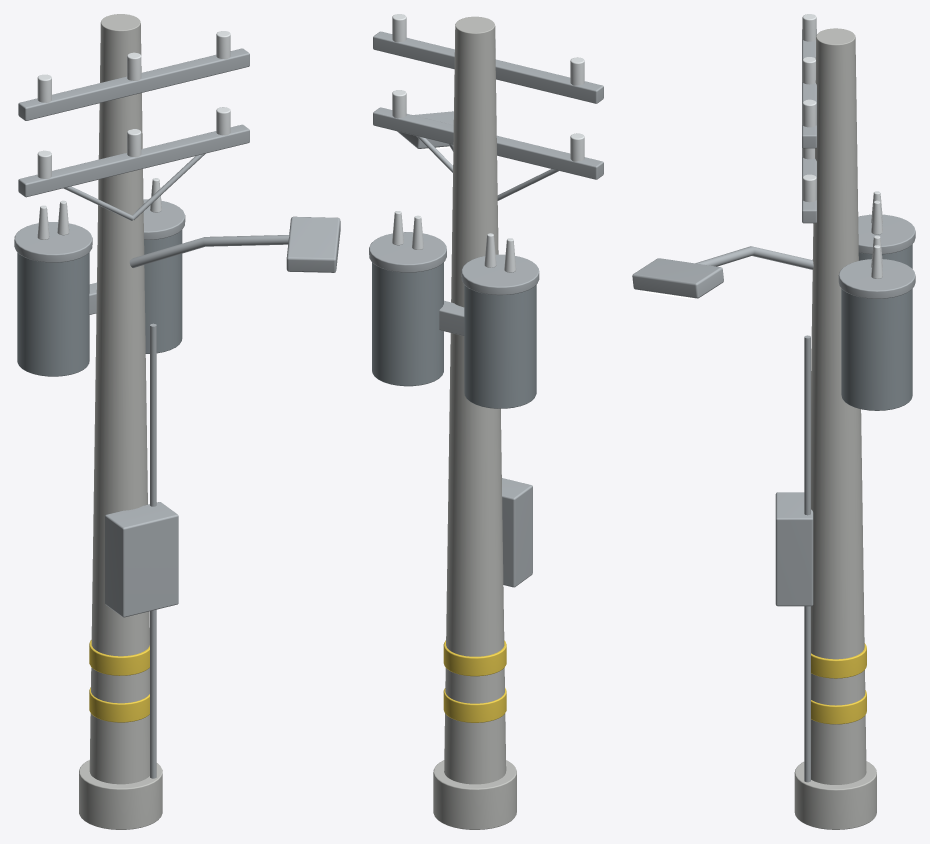
The model's file is urban_utility_pole_cluster_v9.glb.
3 renders of one model, left to right at view 1: azimuth 30°, elevation 25°; view 2: azimuth 150°, elevation 25°; view 3: azimuth 270°, elevation 25°, orthographic.
Parts seen in each view (by area): view 1: GEO_TaperedConcretePole, GEO_PoleTransformerTank, GEO_TelecomJunctionBox, GEO_SteelCrossarm.001, GEO_SteelCrossarm, GEO_PoleBaseCollar, GEO_PoleTransformerTank.001, GEO_StreetlampHeadHousing, GEO_RiserCableConduit, GEO_TransformerTopLid, GEO_CurvedStreetlampArm, GEO_TransformerTopLid.001 (+2 smaller); view 2: GEO_TaperedConcretePole, GEO_PoleTransformerTank, GEO_PoleTransformerTank.001, GEO_PoleBaseCollar, GEO_SteelCrossarm.001, GEO_SteelCrossarm, GEO_TelecomJunctionBox, GEO_TransformerTopLid, GEO_TransformerTopLid.001, GEO_SafetyWarningBand.001, GEO_SafetyWarningBand, GEO_TransformerMountBracket (+1 smaller); view 3: GEO_TaperedConcretePole, GEO_PoleTransformerTank.001, GEO_TelecomJunctionBox, GEO_PoleBaseCollar, GEO_StreetlampHeadHousing, GEO_RiserCableConduit, GEO_TransformerTopLid.001, GEO_TransformerTopLid, GEO_SafetyWarningBand.001, GEO_CurvedStreetlampArm, GEO_SafetyWarningBand, GEO_SteelCrossarm.001 (+1 smaller).
Boxes of the visible parts, x1,y1,x2,y2 form: GEO_TaperedConcretePole: (89,14,149,784); GEO_PoleTransformerTank: (17,252,89,376); GEO_TelecomJunctionBox: (105,502,178,617); GEO_SteelCrossarm.001: (18,48,249,120); GEO_SteelCrossarm: (18,124,249,197); GEO_PoleBaseCollar: (79,760,162,829); GEO_PoleTransformerTank.001: (144,230,182,353); GEO_StreetlampHeadHousing: (286,216,340,272); GEO_RiserCableConduit: (150,323,156,778); GEO_TransformerTopLid: (14,222,92,262); GEO_CurvedStreetlampArm: (129,235,289,267); GEO_TransformerTopLid.001: (143,199,185,239); GEO_TaperedConcretePole: (444,16,506,784); GEO_PoleTransformerTank: (464,285,536,408); GEO_PoleTransformerTank.001: (372,262,443,386); GEO_PoleBaseCollar: (433,760,516,829); GEO_SteelCrossarm.001: (373,31,603,103); GEO_SteelCrossarm: (373,107,603,179); GEO_TelecomJunctionBox: (502,478,532,587); GEO_TransformerTopLid: (461,254,539,295); GEO_TransformerTopLid.001: (369,232,446,272); GEO_SafetyWarningBand.001: (443,640,506,676); GEO_SafetyWarningBand: (443,688,506,722); GEO_TransformerMountBracket: (439,300,464,335); GEO_TaperedConcretePole: (811,28,866,784); GEO_PoleTransformerTank.001: (841,288,912,410); GEO_TelecomJunctionBox: (775,492,813,606); GEO_PoleBaseCollar: (794,761,876,829); GEO_StreetlampHeadHousing: (632,258,723,298); GEO_RiserCableConduit: (804,335,810,782); GEO_TransformerTopLid.001: (838,259,915,298); GEO_TransformerTopLid: (858,214,915,254); GEO_SafetyWarningBand.001: (811,643,866,678); GEO_CurvedStreetlampArm: (695,246,813,269); GEO_SafetyWarningBand: (811,690,866,724); GEO_SteelCrossarm.001: (802,29,816,148).
Size of the model in its own units: 1.58 by 4.56 by 1.51.
